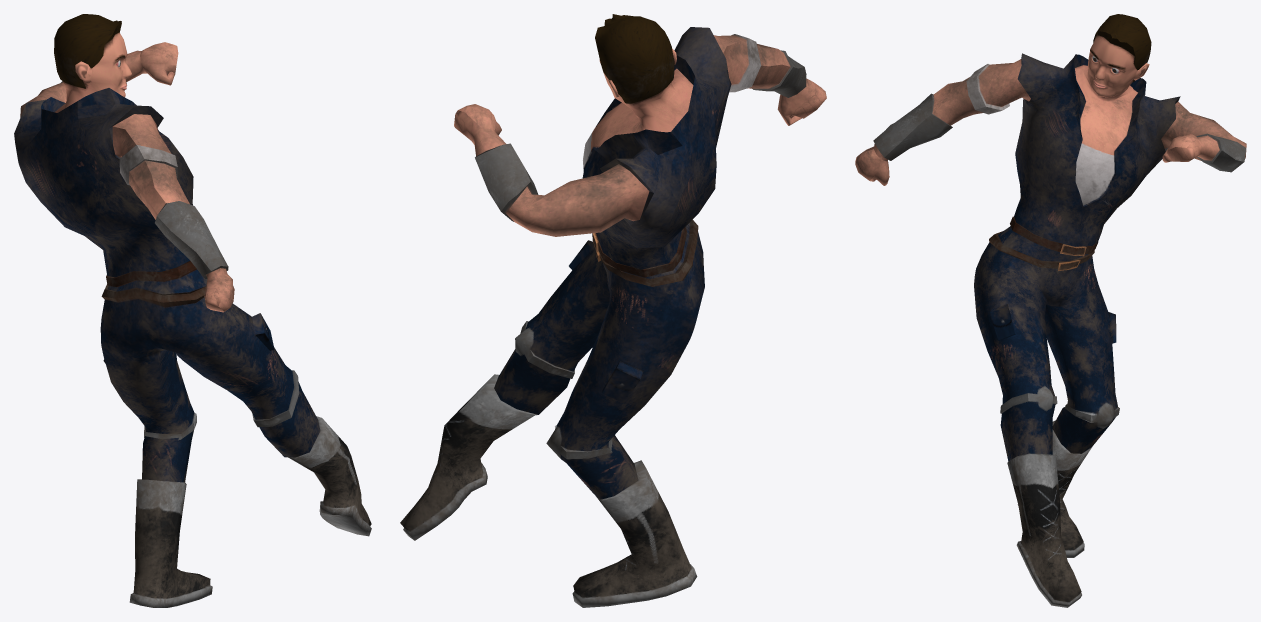
File: Anim_ataque_f1_jugador.0024.obj
The picture shows the model from 3 angles, left to right: view 1: azimuth 30°, elevation 25°; view 2: azimuth 150°, elevation 25°; view 3: azimuth 270°, elevation 25°; orthographic projection. The views are drawn at different scales.
Visible parts, largest first — view 1: polySurface1; view 2: polySurface1; view 3: polySurface1.
Part boxes in pixels (left/top/right/bottom): polySurface1: left=14, top=14, right=371, bottom=607; polySurface1: left=400, top=14, right=826, bottom=607; polySurface1: left=855, top=14, right=1246, bottom=607.
Size of the model in its own units: 5 by 9.08 by 6.38.
